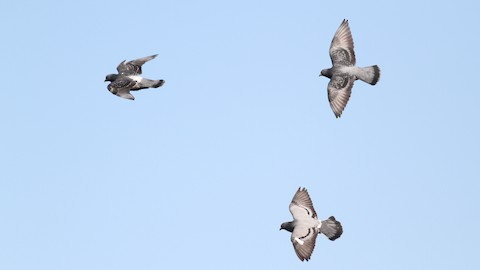pigeon: (311, 13, 384, 120), (273, 182, 346, 265), (102, 49, 170, 103)
